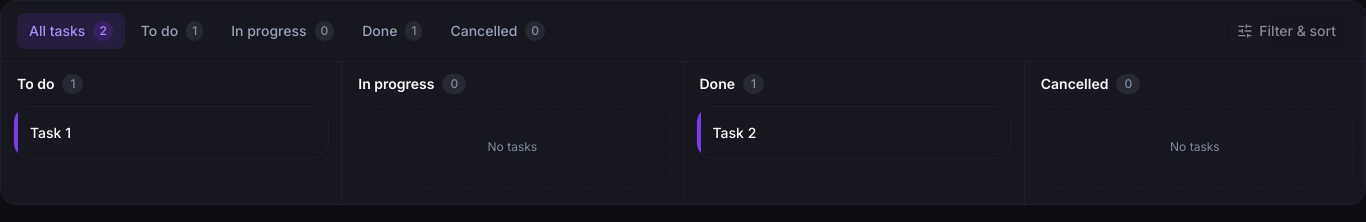
KanbanBoard › filters to a single column when a toolbar tab is chosen
Click the tab "Done 1".
click(392, 31)  # box [350, 13, 434, 49]
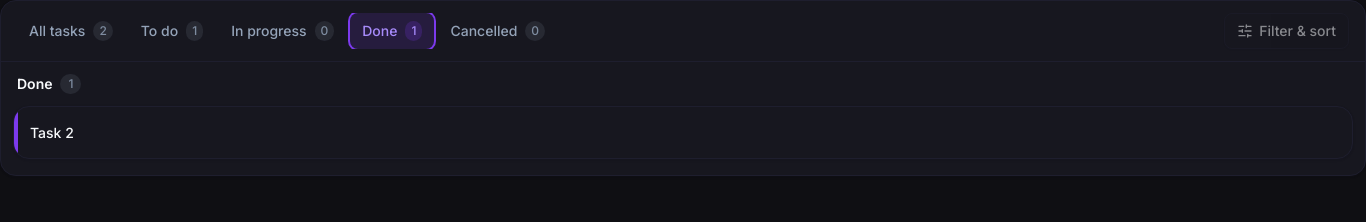
Expected: the heading "Task 2" is shown, [30, 123, 74, 142]
Result: the button "Task 1" is gone
